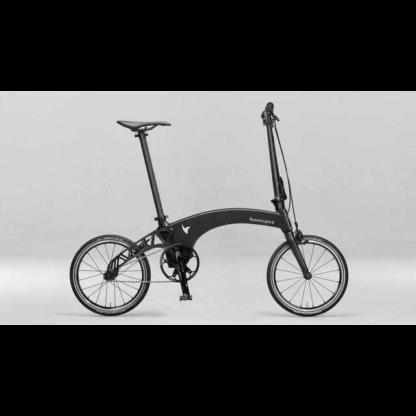Bicycle: (61, 94, 355, 325)
